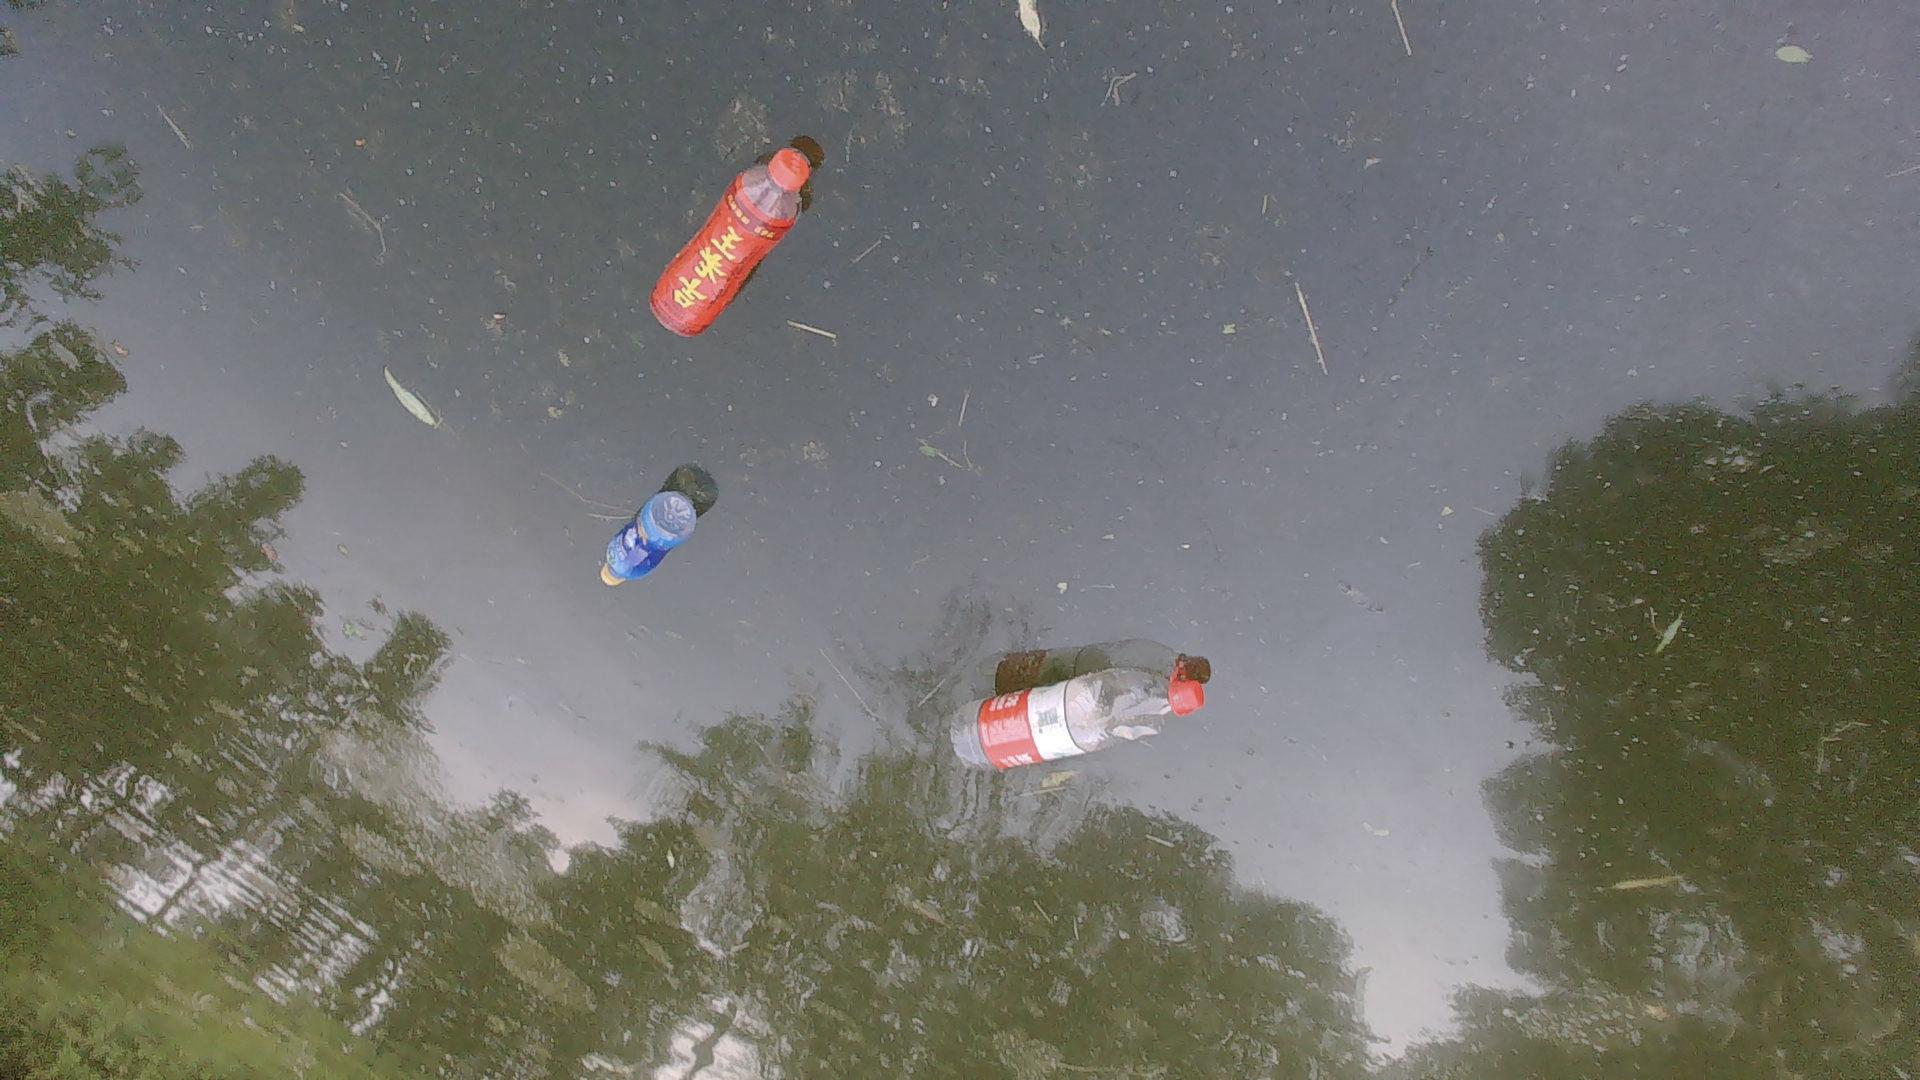Plastic: (640, 144, 814, 344), (938, 653, 1211, 778), (593, 481, 700, 591)
